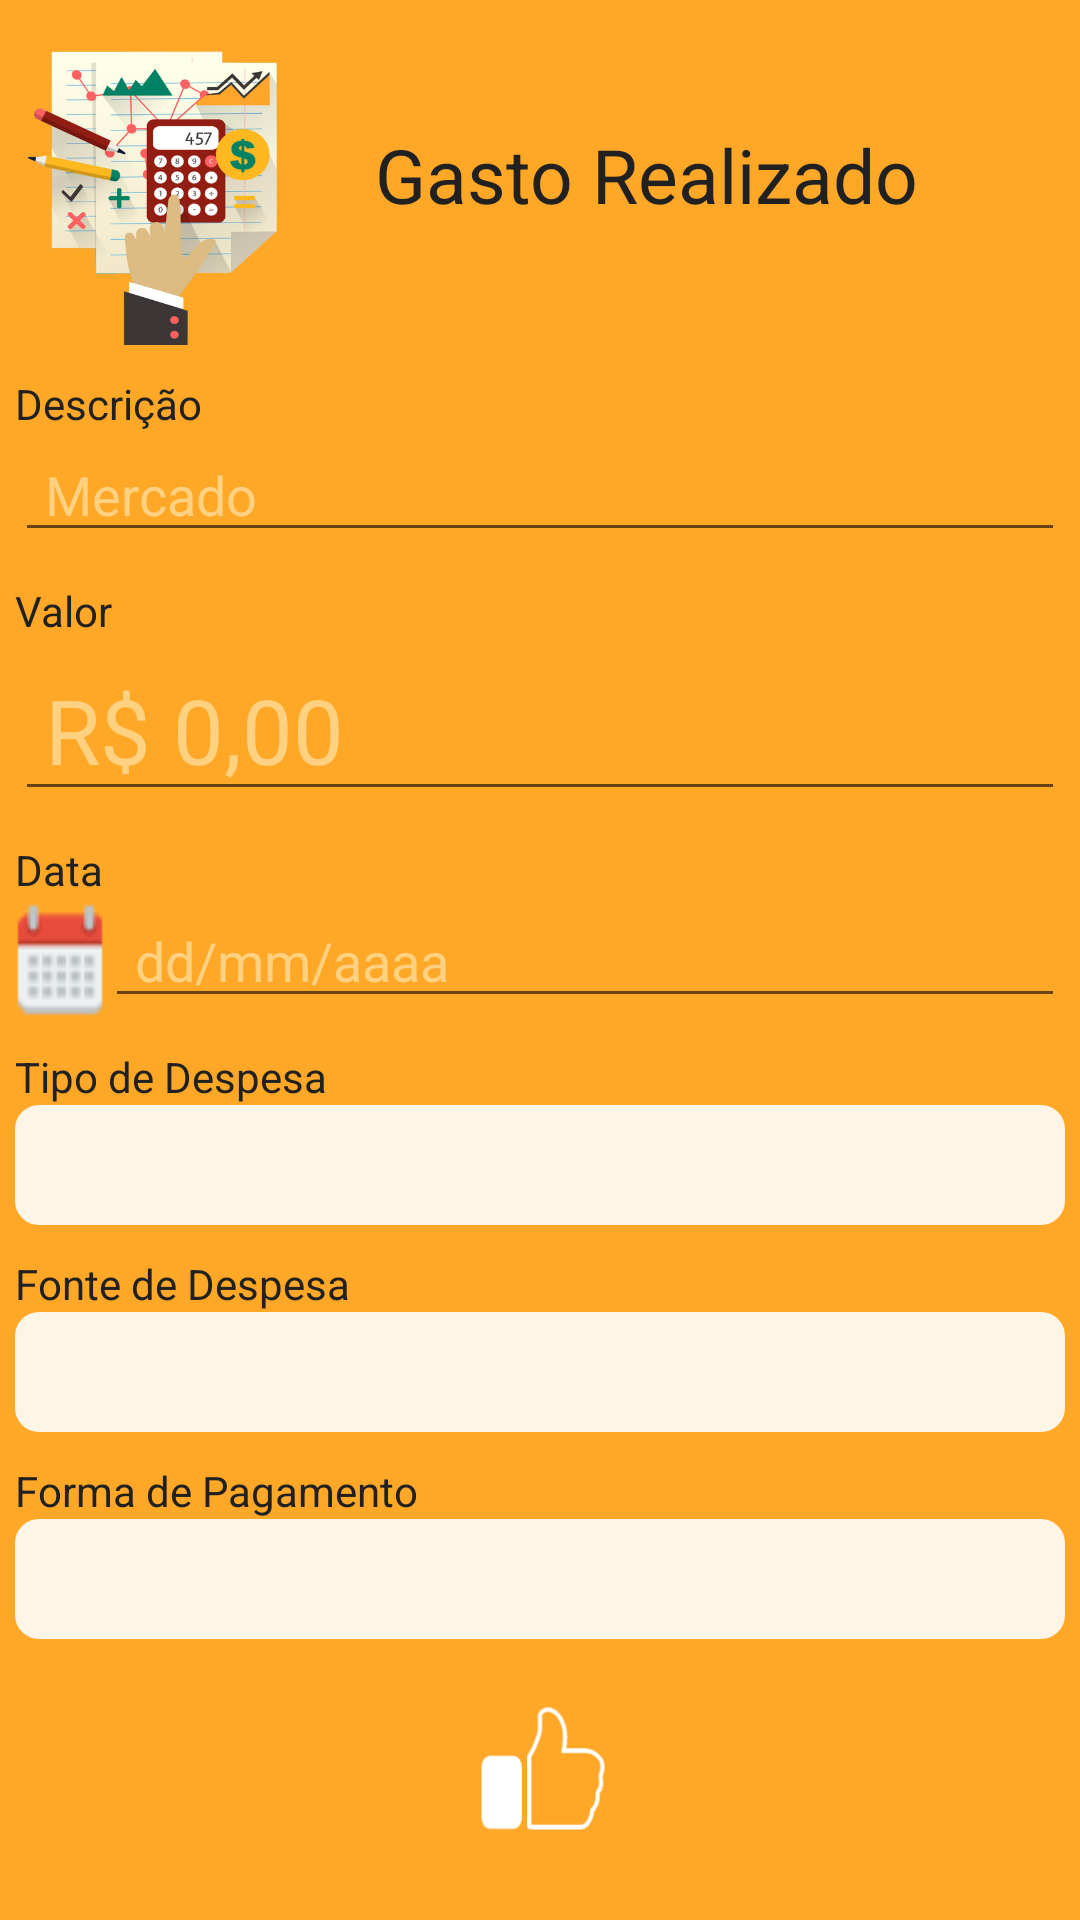

Named icons in this screenshot (1080*1920) and their bounding boxes, BBox(x1, y1, x2, y2):
calendar: BBox(17, 904, 103, 1015)
gastos: BBox(28, 51, 277, 345)
